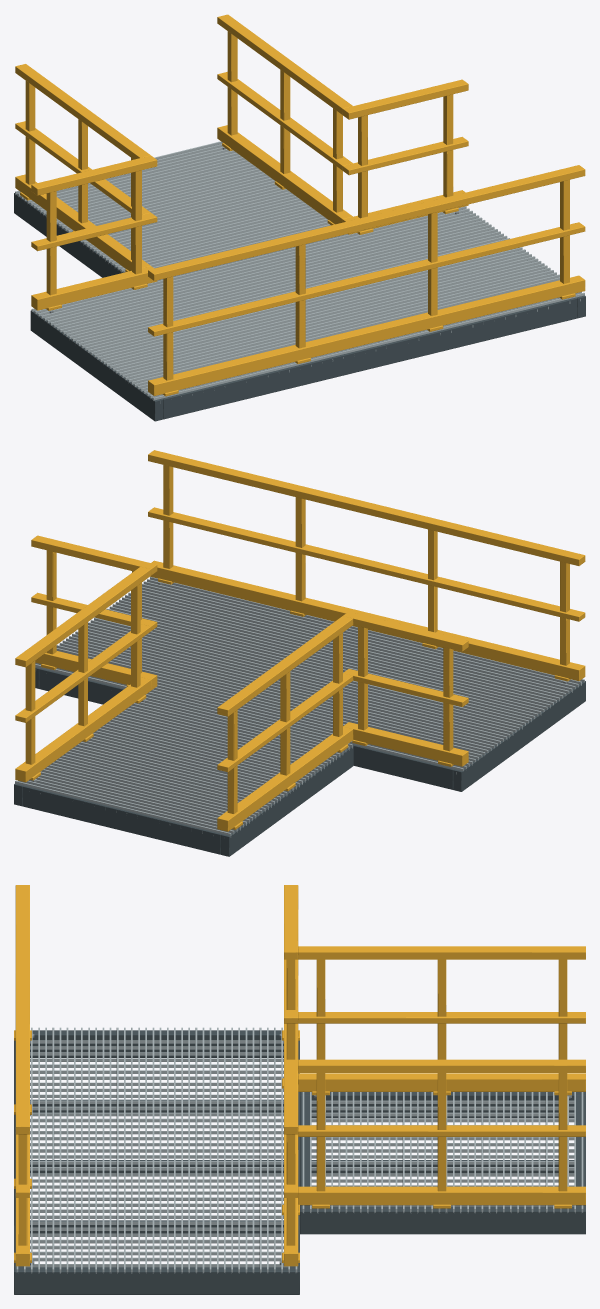
3 views of the same model, one above another, from view 1: azimuth 30°, elevation 25°; view 2: azimuth 150°, elevation 25°; view 3: azimuth 270°, elevation 25° (orthographic). The views are drawn at different scales.
Parts seen in each view (by area): view 1: SM_NPP_Catwalk_TJunction_A; view 2: SM_NPP_Catwalk_TJunction_A; view 3: SM_NPP_Catwalk_TJunction_A.
Part boxes in pixels (box(x1,y1,x2,y2)): SM_NPP_Catwalk_TJunction_A: box(14, 14, 585, 421); SM_NPP_Catwalk_TJunction_A: box(14, 450, 585, 856); SM_NPP_Catwalk_TJunction_A: box(14, 885, 585, 1294).
Size of the model in its own units: 4 by 1.3 by 4.
